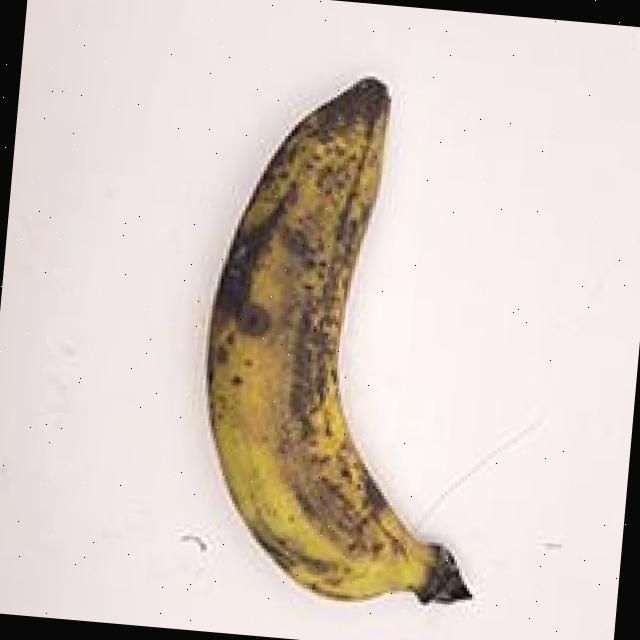Overripe: (177, 44, 538, 640)
